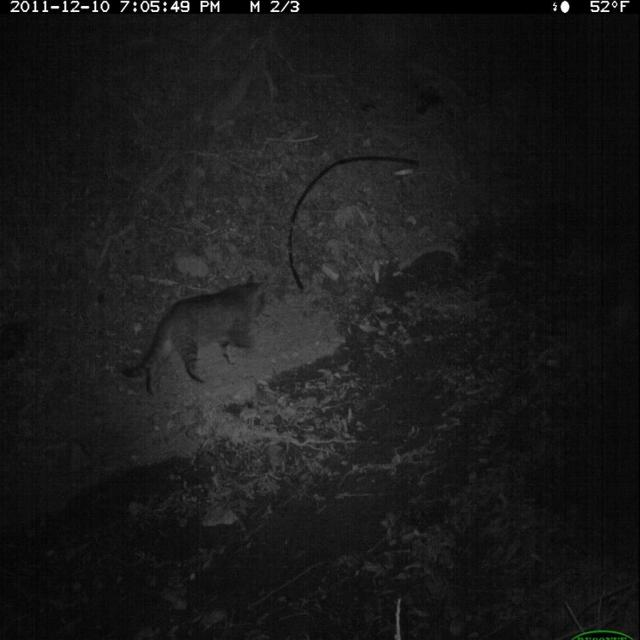cat: (121, 269, 271, 405)
